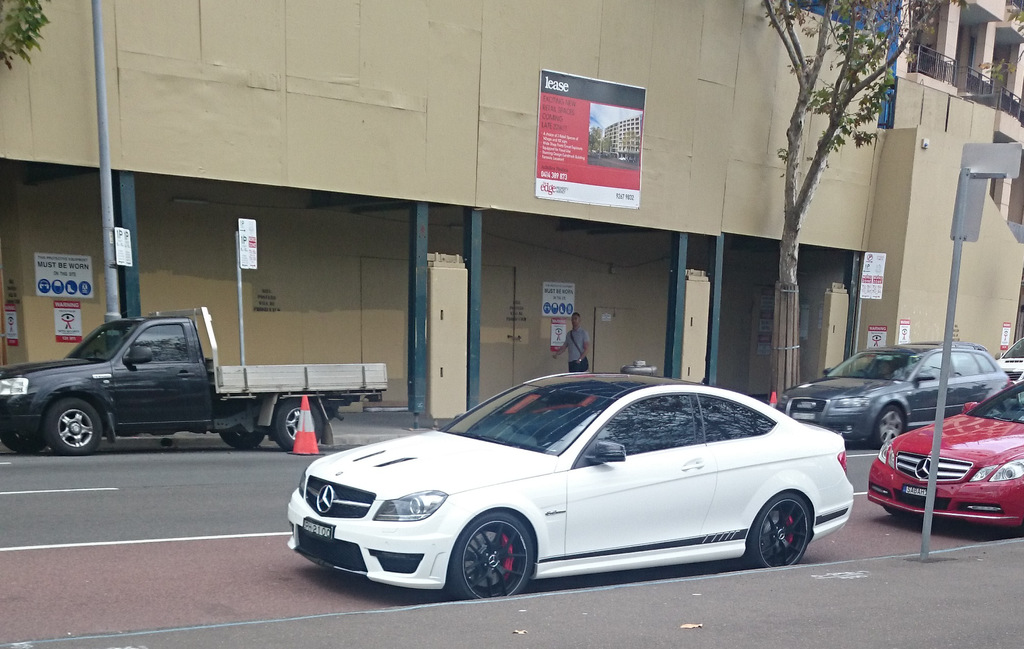Car: (286, 372, 853, 600), (774, 340, 1014, 449), (864, 377, 1023, 536), (997, 337, 1023, 382)
